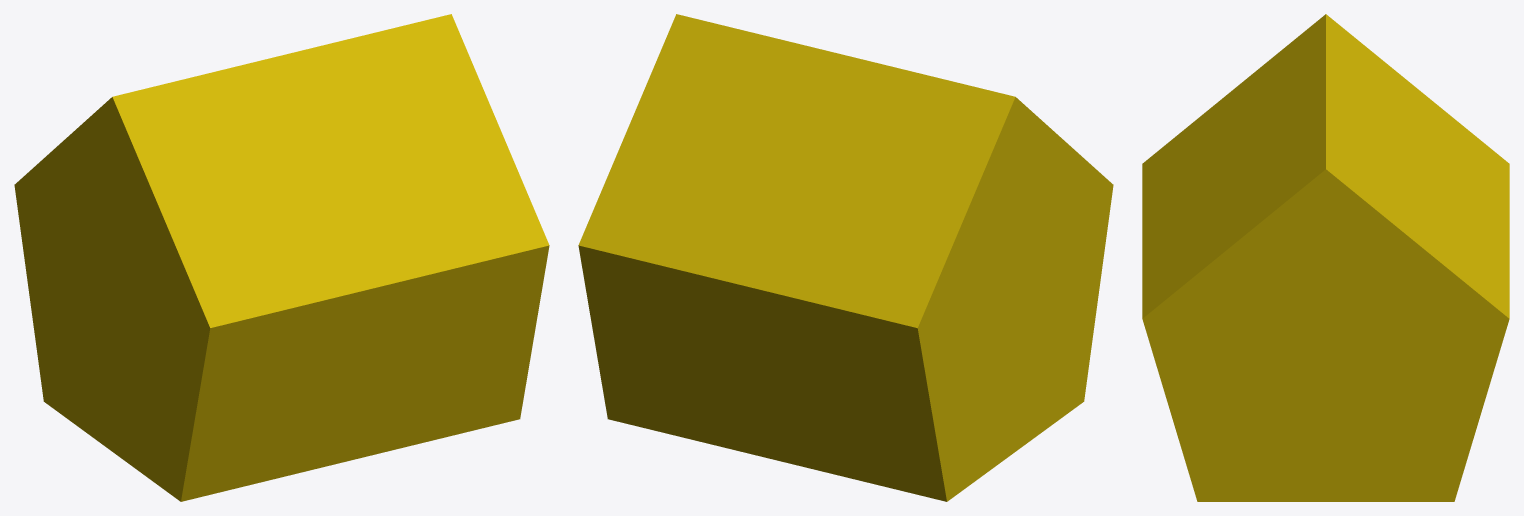
File: segilima.fbx
3 renders of one model, left to right at view 1: azimuth 30°, elevation 25°; view 2: azimuth 150°, elevation 25°; view 3: azimuth 270°, elevation 25°, orthographic. The views are drawn at different scales.
Parts seen in each view (by area): view 1: Cube; view 2: Cube; view 3: Cube.
Part boxes in pixels (left/top/right/bottom): Cube: left=14, top=14, right=549, bottom=501; Cube: left=578, top=14, right=1113, bottom=501; Cube: left=1142, top=14, right=1509, bottom=501.
Bounding box in the file's own units: 200 × 200 × 200.
